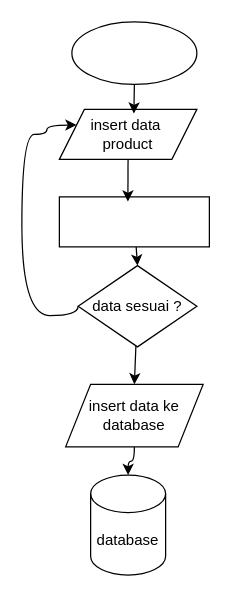
Some shapes in this 231 by 598 pixel diagram are drawn without their labels. The centre of each missing label's shape, as x and y in pixels:
Mulai: the point at 134,52
respect validation: the point at 133,221
